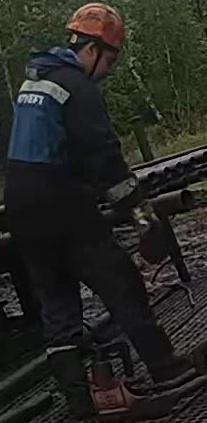gloves: (124, 186, 172, 266)
helmet: (65, 2, 125, 51)
vest: (3, 52, 130, 241)
